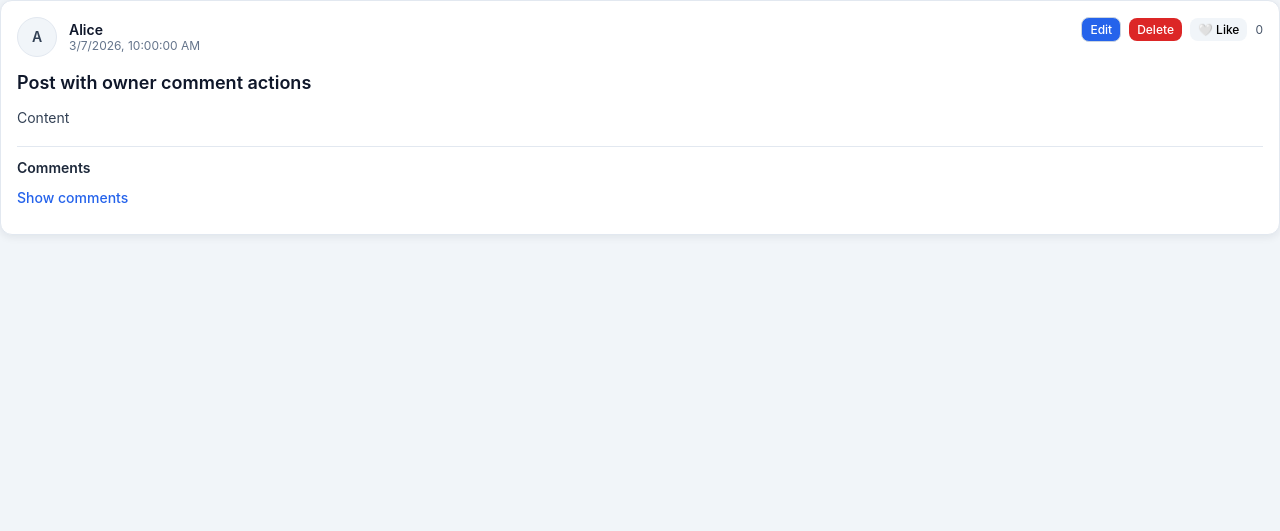
Test: PostCard › Comments › updates and deletes own comment
Click the button with test id "comments-open-post-comments-3".
click(73, 197)  # box [17,188,128,206]
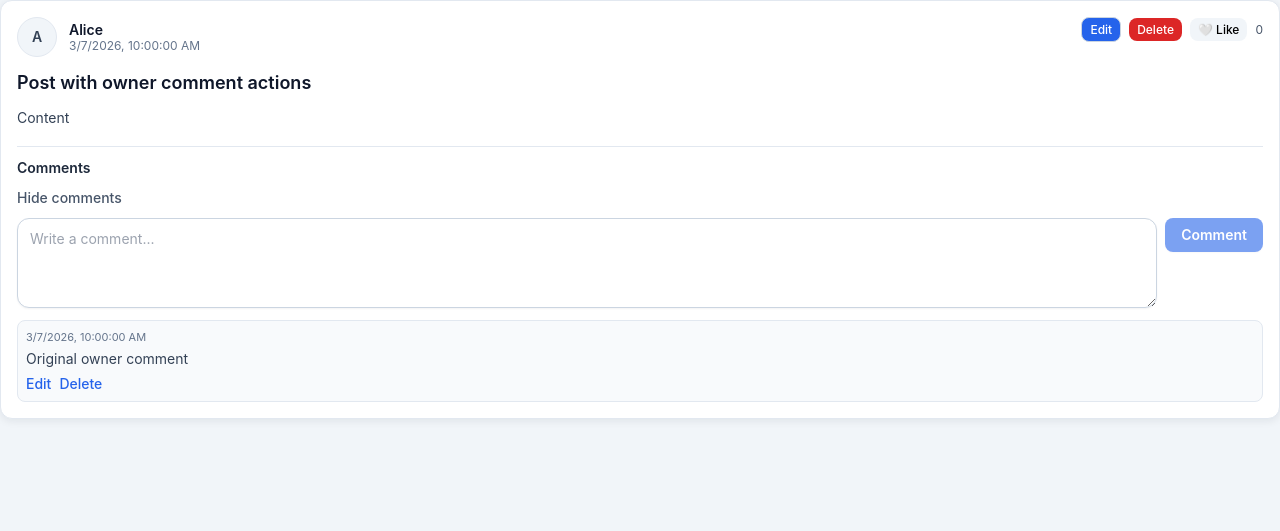
Expected: the text "Original owner comment" is shown, [26,350,188,366]
Click the button with test id "comment-edit-post-comments-3-comment-owner".
click(39, 384)  # box [26,375,51,392]
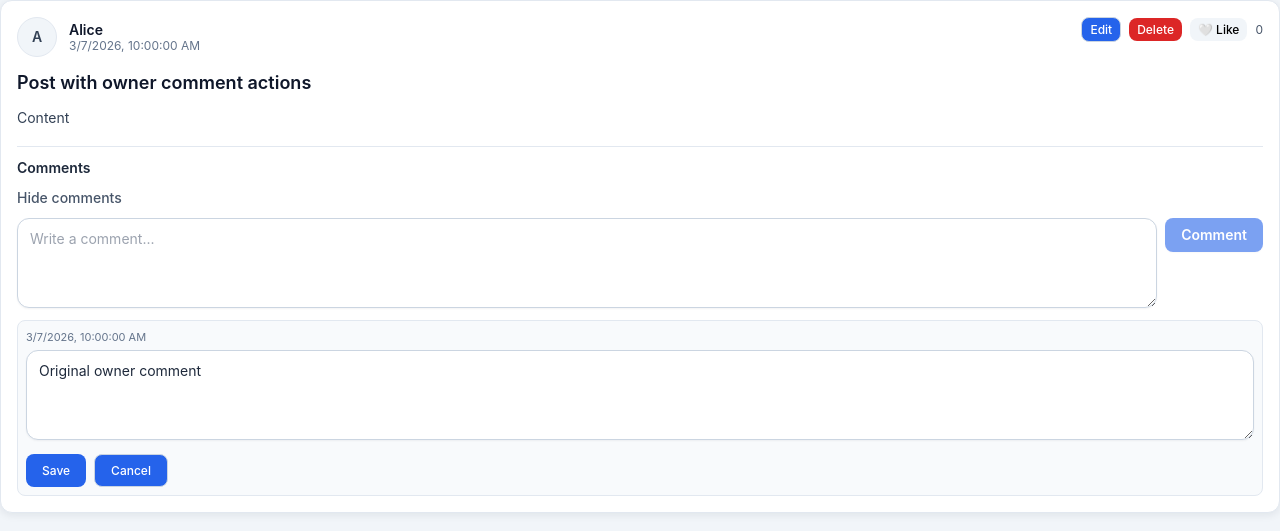
Replace the text in the text box with test id "comment-edit-input-post-comments-3-comment-owner" with "Edited by owner" at (640,394), box [26,350,1254,440]
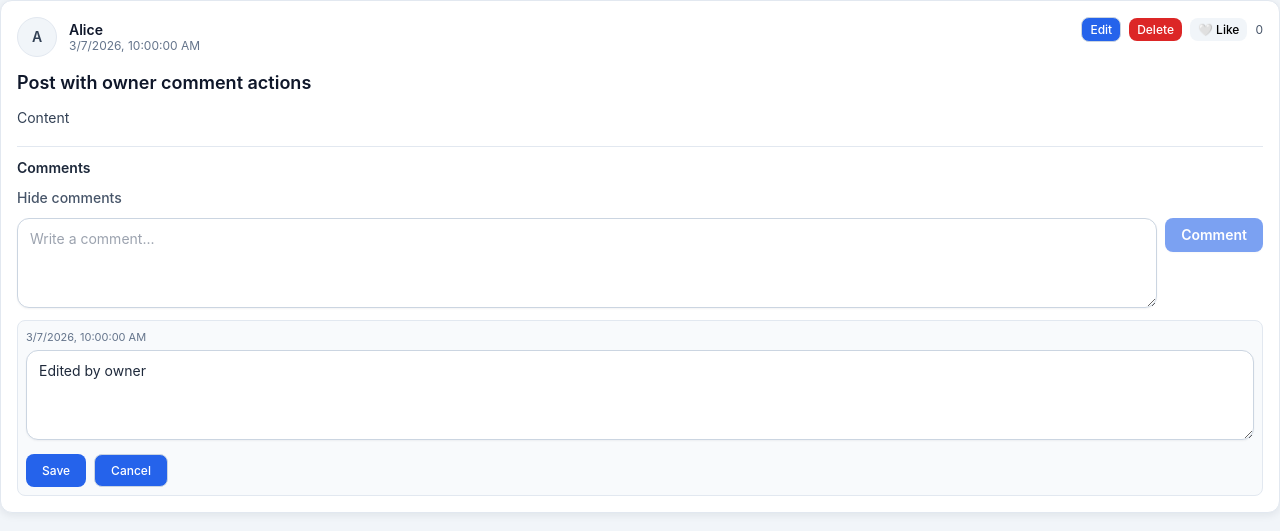
Click the button with test id "comment-edit-save-post-comments-3-comment-owner".
click(56, 470)  # box [26,454,86,486]
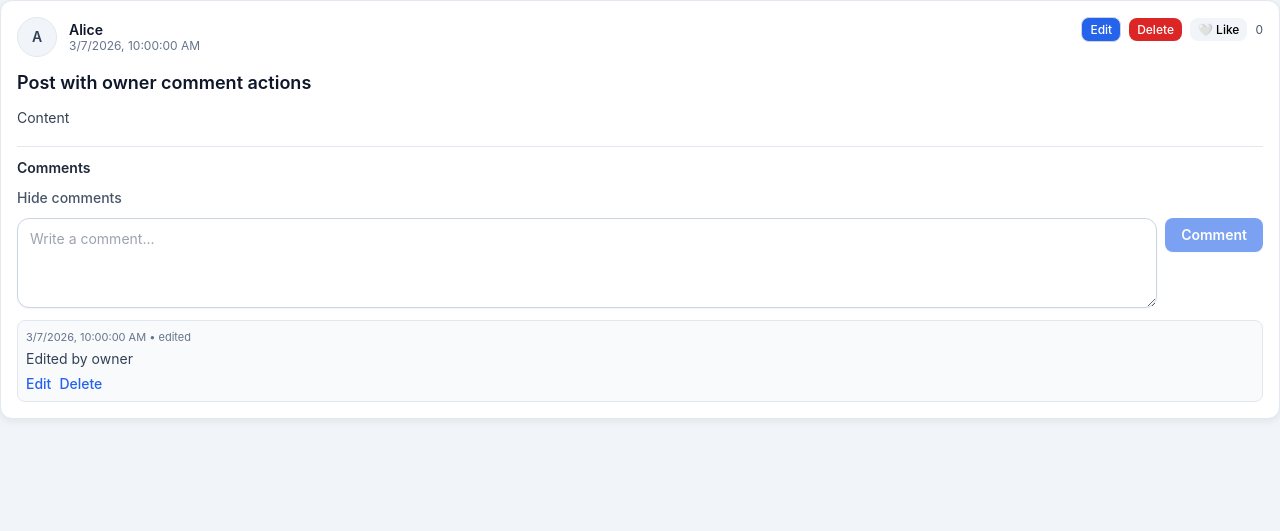
Click the button with test id "comment-delete-post-comments-3-comment-owner".
click(81, 384)  # box [59,375,102,392]
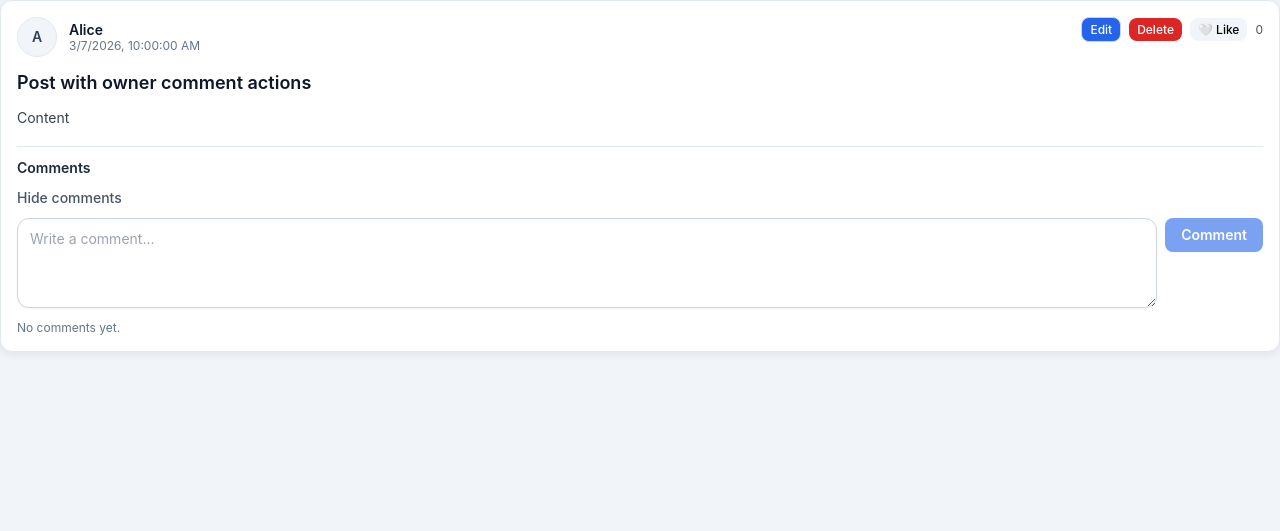
Expected: the text "No comments yet." is shown, [17,320,120,335]
